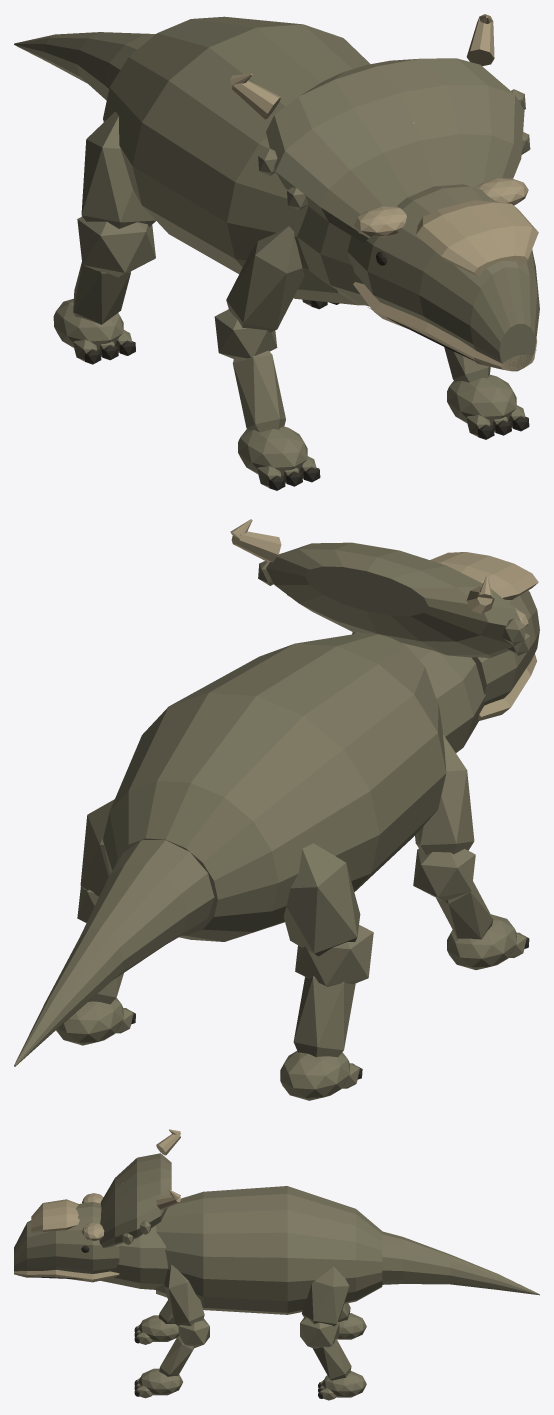
The picture shows the model from 3 angles, top to bottom: view 1: azimuth 30°, elevation 25°; view 2: azimuth 150°, elevation 25°; view 3: azimuth 270°, elevation 25°; orthographic projection. The views are drawn at different scales.
Parts seen in each view (by area): view 1: surface_muted_olive_umber, surface_boss_beak_warmstone, surface_eyes_hoof; view 2: surface_muted_olive_umber, surface_boss_beak_warmstone; view 3: surface_muted_olive_umber, surface_boss_beak_warmstone, surface_eyes_hoof.
Part boxes in pixels (box(x1,y1,x2,y2)): surface_muted_olive_umber: box(14, 16, 539, 487); surface_boss_beak_warmstone: box(230, 14, 538, 370); surface_eyes_hoof: box(84, 251, 536, 490); surface_muted_olive_umber: box(14, 542, 539, 1100); surface_boss_beak_warmstone: box(230, 519, 538, 720); surface_muted_olive_umber: box(14, 1153, 539, 1400); surface_boss_beak_warmstone: box(14, 1129, 180, 1282); surface_eyes_hoof: box(23, 1245, 322, 1398).
Bounding box in the file's own units: 0.3287 × 0.4358 × 1.
